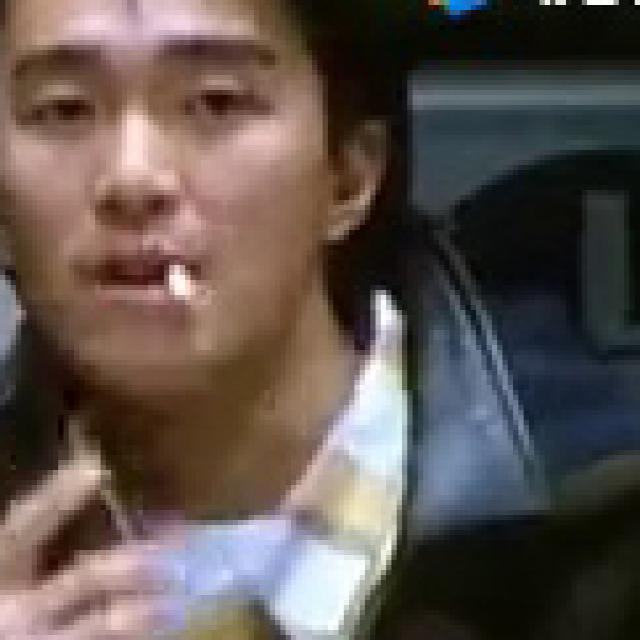smoking: (162, 256, 212, 310)
